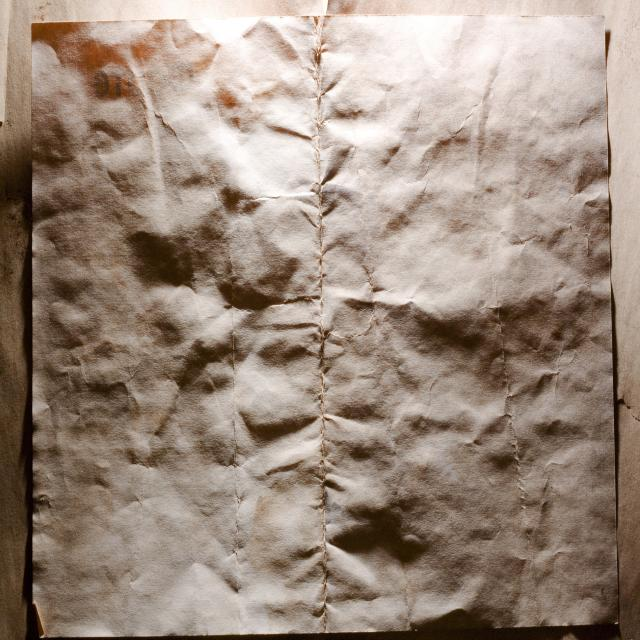paper: (33, 26, 407, 514)
